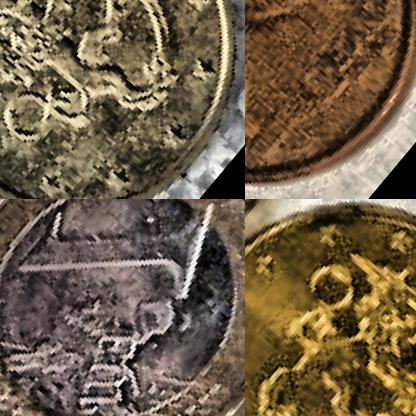coin: (0, 199, 244, 415), (0, 0, 244, 198), (245, 199, 415, 415), (245, 0, 415, 198)
